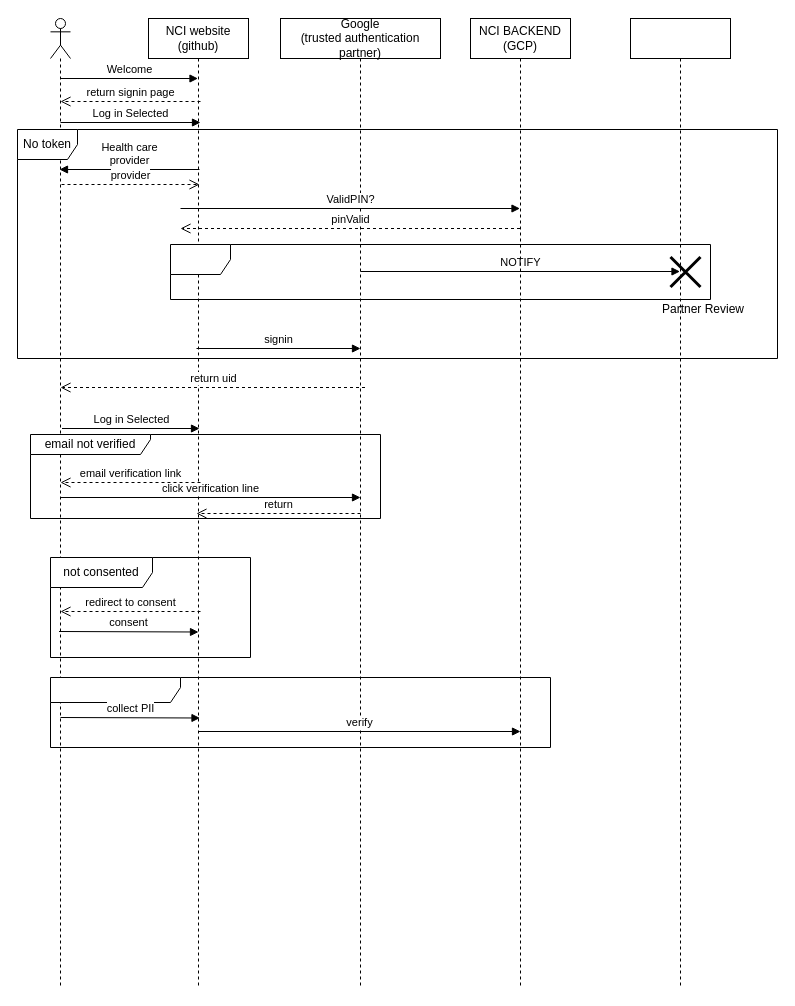
The diagram is 795 pixels wide and 1006 high, and some of its shapes have lost their labels. The box of each missing label's shape, as (x1, y1, x2, y2) in pixels:
not user info collected: (50, 676, 550, 748)
not valid: (170, 244, 710, 300)
Partner site: (630, 18, 730, 988)
